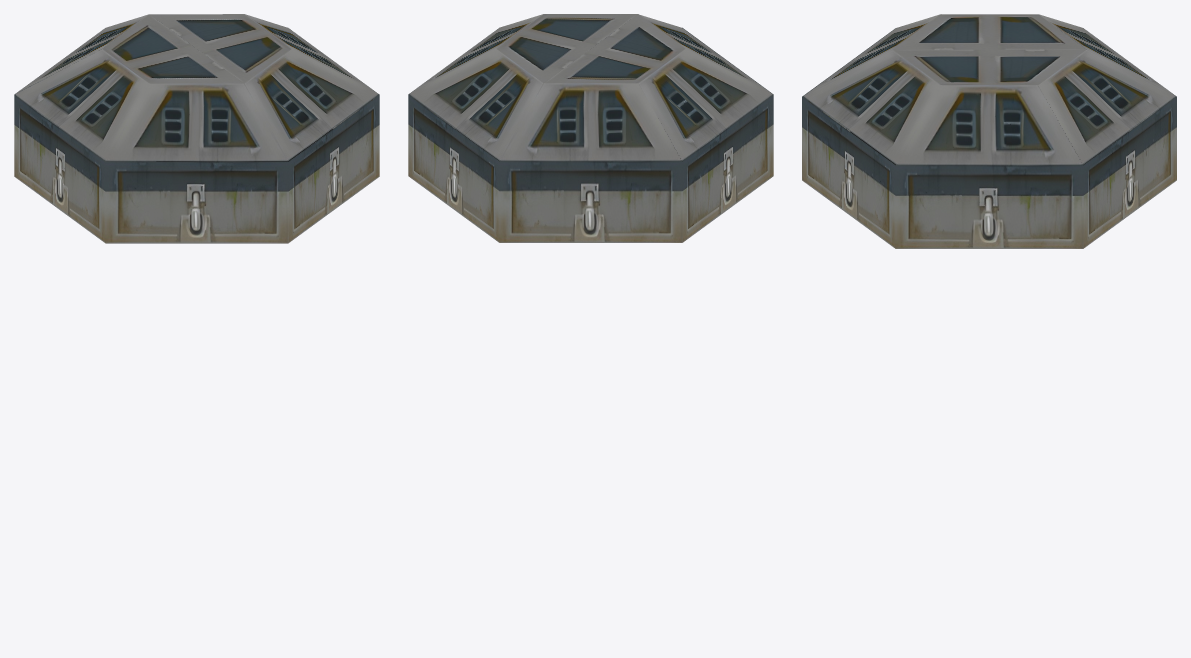
The model's file is srmpopup_hdtex.glb.
3 views of the same model, side by side, from view 1: azimuth 30°, elevation 25°; view 2: azimuth 150°, elevation 25°; view 3: azimuth 270°, elevation 25° (orthographic). The views are drawn at different scales.
Visible parts, largest first — view 1: Doorbase, Door05, Door06, Door03, Door02; view 2: Doorbase, Door02, Door06, Door03, Door05; view 3: Doorbase, Door03, Door05, Door02, Door06.
Part boxes in pixels (box(x1,y1,x2,y2)): Doorbase: box(14, 34, 379, 243); Door05: box(105, 48, 379, 161); Door06: box(14, 14, 243, 161); Door03: box(150, 14, 376, 92); Door02: box(15, 14, 263, 93); Doorbase: box(408, 27, 773, 242); Door02: box(409, 48, 681, 161); Door06: box(544, 14, 773, 160); Door03: box(409, 14, 637, 93); Door05: box(499, 14, 771, 93); Doorbase: box(802, 28, 1176, 248); Door03: box(893, 49, 1085, 165); Door05: box(803, 14, 941, 164); Door02: box(1038, 14, 1176, 164); Door06: box(893, 14, 1085, 49).
Size of the model in its own units: 7.27 by 13.6 by 8.38.
Materials: 4 (4 with a texture image).
